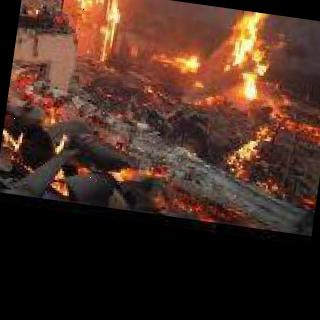fire: (167, 1, 286, 99), (12, 0, 144, 77), (214, 110, 281, 188), (103, 152, 172, 202), (4, 0, 30, 122), (26, 96, 77, 158), (0, 114, 26, 165)
